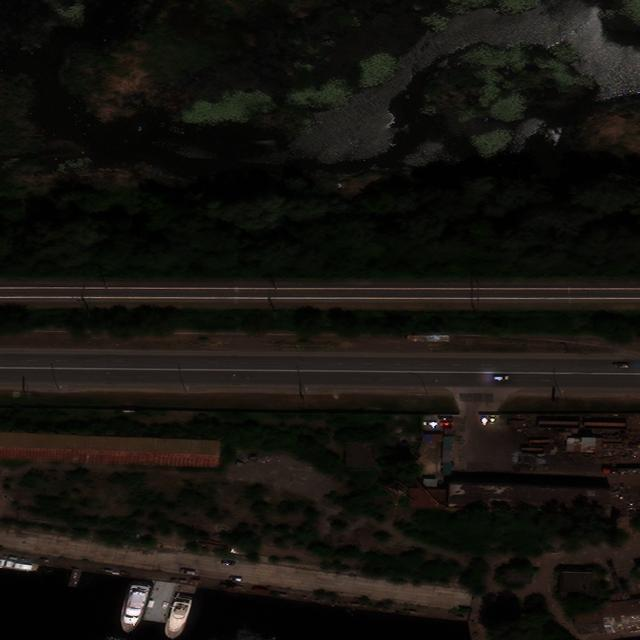Other Ship: (68, 567, 83, 588)
Yacht: (116, 582, 151, 635), (163, 593, 193, 640), (1, 559, 39, 573)
